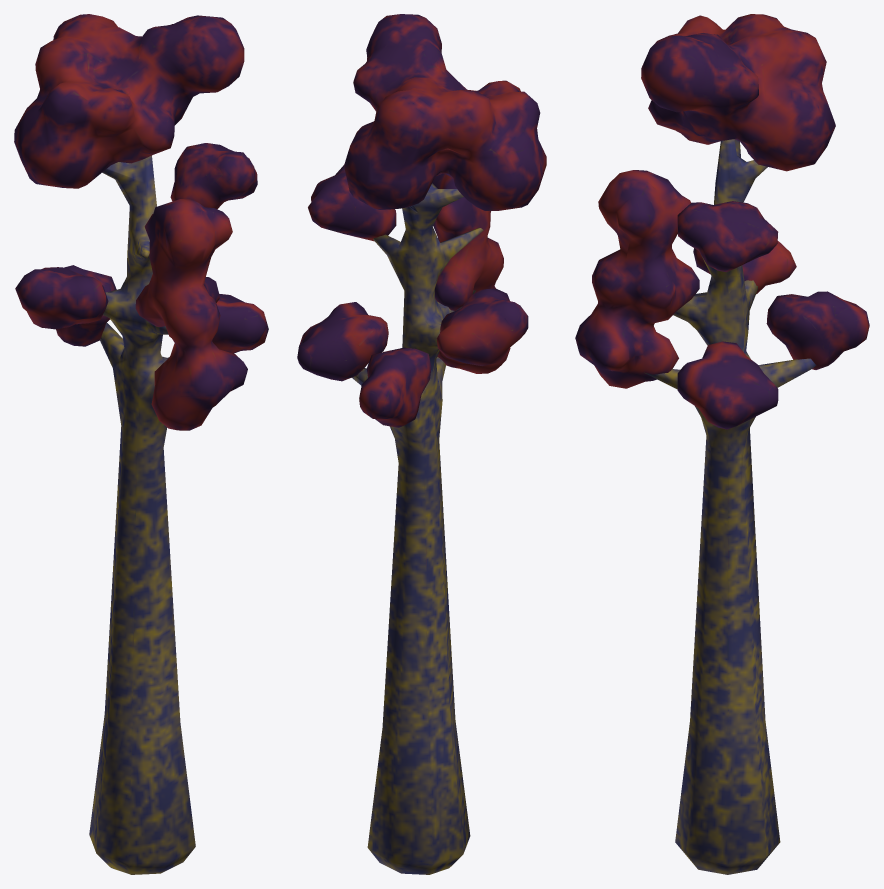
The model's file is Tree5.fbx.
3 views of the same model, side by side, from view 1: azimuth 30°, elevation 25°; view 2: azimuth 150°, elevation 25°; view 3: azimuth 270°, elevation 25° (orthographic). The views are drawn at different scales.
Parts seen in each view (by area): view 1: Tree5; view 2: Tree5; view 3: Tree5.
Part boxes in pixels (box(x1,y1,x2,y2)): Tree5: box(14, 14, 268, 874); Tree5: box(297, 14, 546, 874); Tree5: box(575, 14, 869, 874).
Bounding box in the file's own units: 1.45 × 4.86 × 1.53.
